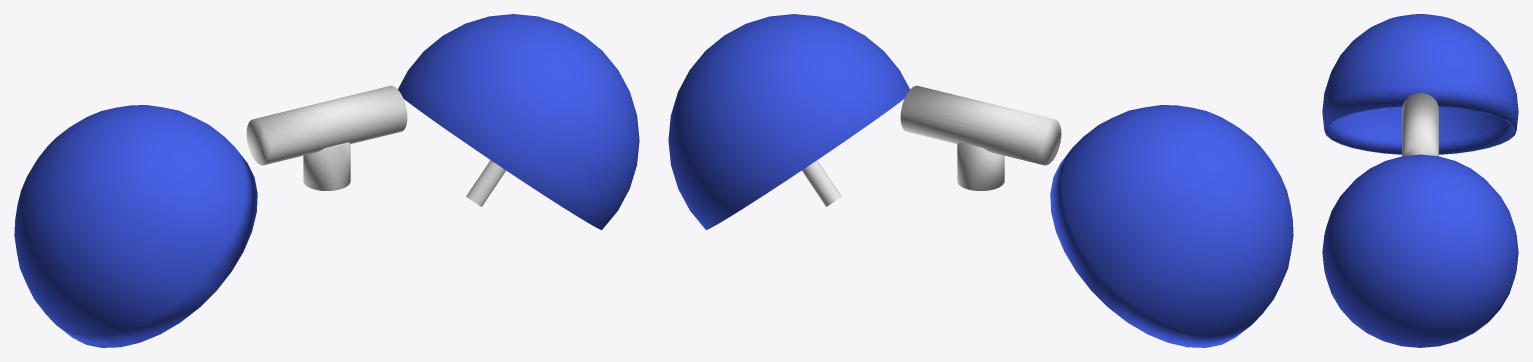
The model's file is clockParts.gltf.
3 views of the same model, side by side, from view 1: azimuth 30°, elevation 25°; view 2: azimuth 150°, elevation 25°; view 3: azimuth 270°, elevation 25° (orthographic). The views are drawn at different scales.
Parts seen in each view (by area): view 1: 円柱.004; view 2: 円柱.004; view 3: 円柱.004.
Boxes of the visible parts, x1=… form: 円柱.004: x1=14, y1=14, x2=639, y2=347; 円柱.004: x1=668, y1=14, x2=1293, y2=347; 円柱.004: x1=1322, y1=14, x2=1518, y2=347.
Size of the model in its own units: 2.58 by 0.8525 by 0.96.
